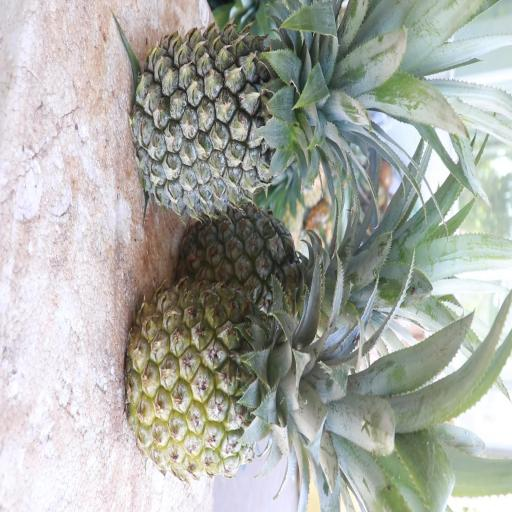------------------------------: (118, 276, 354, 490), (172, 199, 372, 355)
